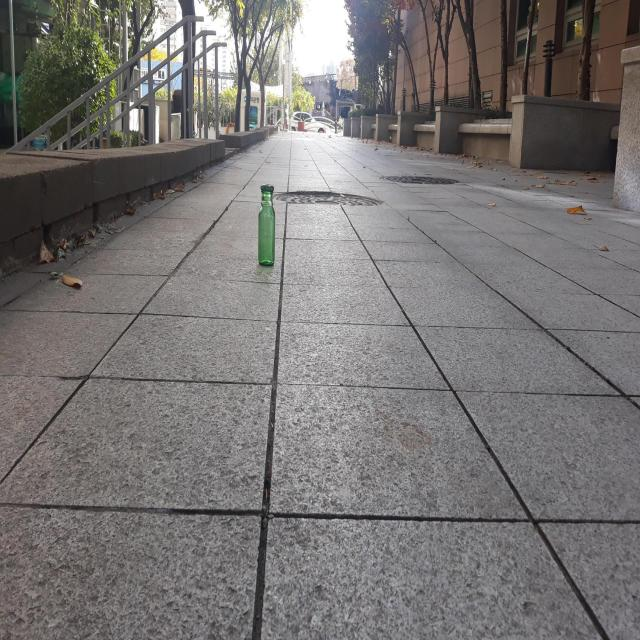glass: (258, 184, 275, 264)
